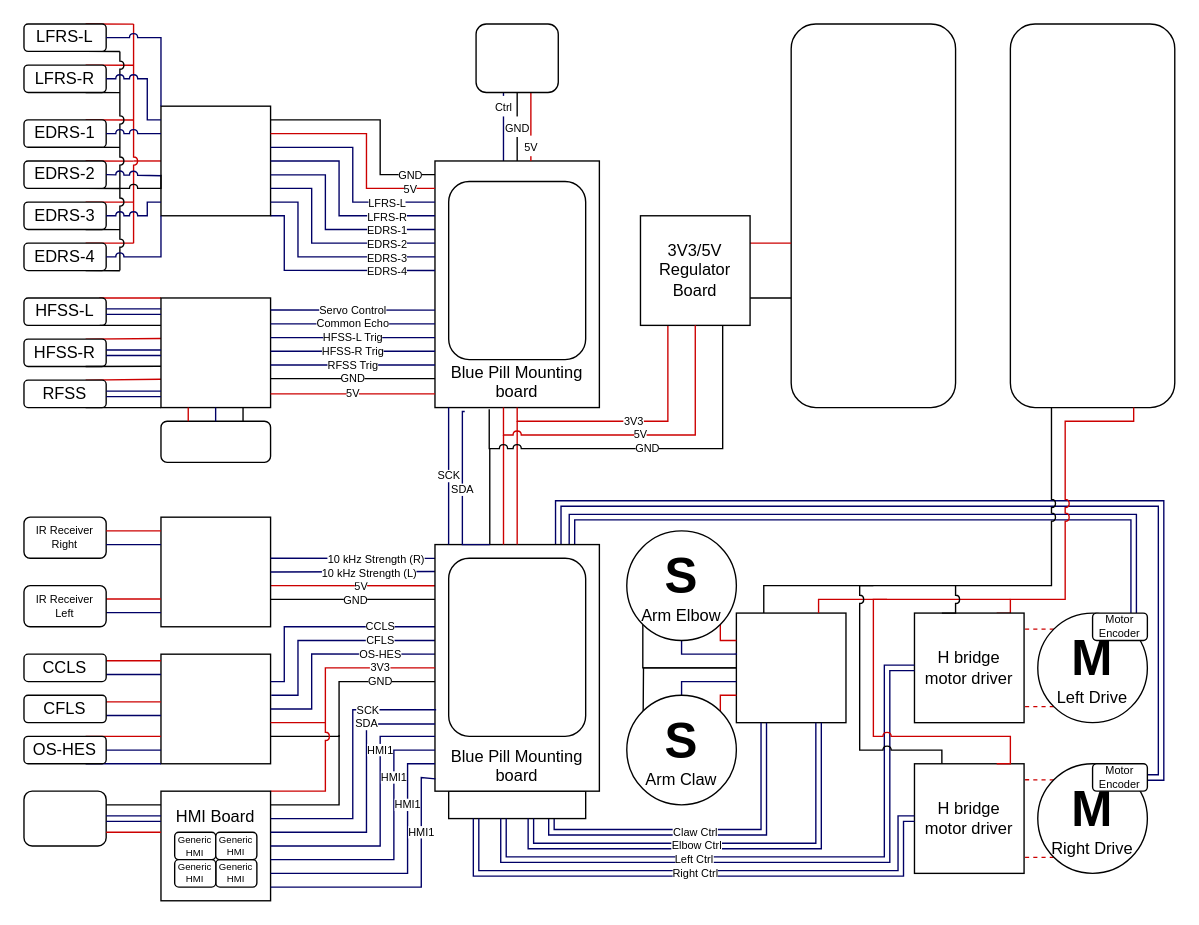
The diagram is 1199 pixels wide and 925 high, and some of its shapes have lost their labels. The centre of each missing label's shape, as x and y in pixels:
12V Cells: the point at 1092,215
9V Cells: the point at 873,215
Bridge Servo Actuator: the point at 516,57
Claw Sensor Distribution Board: the point at 215,708
IR Discriminator Board: the point at 215,571
Master Blue Pill: the point at 516,646
Minion Blue Pill: the point at 516,270
OLED: the point at 64,818
Optoisolators: the point at 516,804
Reflectance Sensor Distribution Board: the point at 215,160
Servo 5V regulator and control passthrough: the point at 790,667
Sonar Distribution Board: the point at 215,352
Sonar Platform Servo: the point at 215,441
